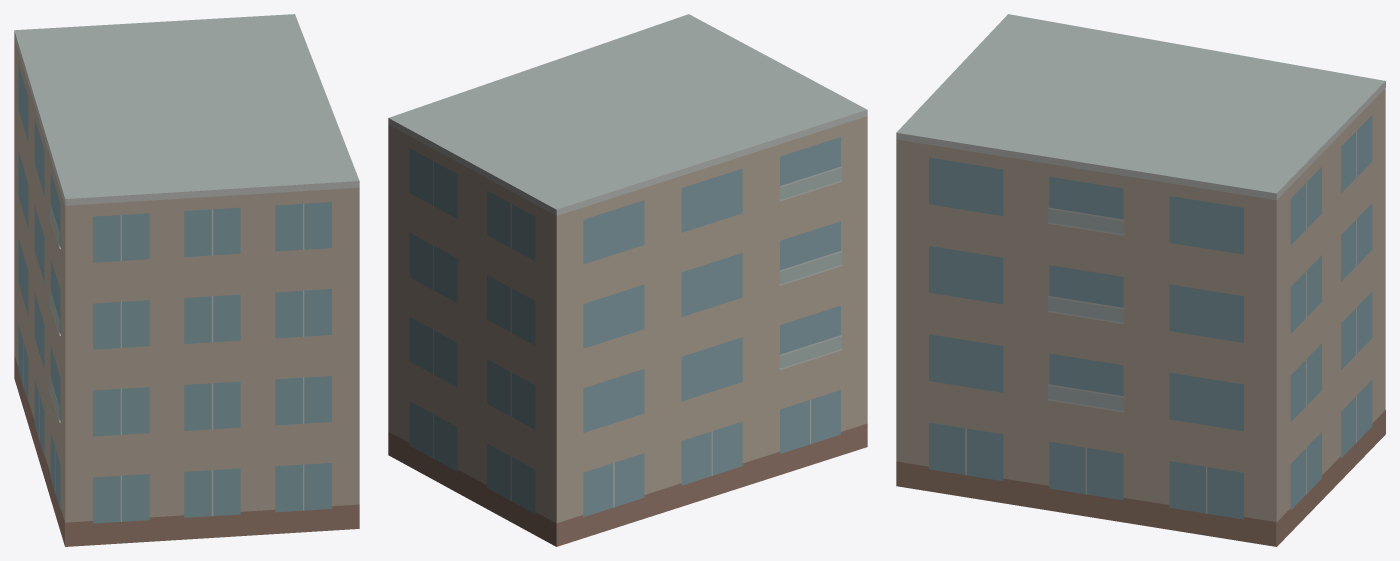
The model's file is survey-upis-32745872.glb.
3 renders of one model, left to right at view 1: azimuth 30°, elevation 25°; view 2: azimuth 150°, elevation 25°; view 3: azimuth 270°, elevation 25°, orthographic. The views are drawn at different scales.
Visible parts, largest first — view 1: survey-upis-32745872.tmp; view 2: survey-upis-32745872.tmp; view 3: survey-upis-32745872.tmp.
Boxes of the visible parts, <box> form: survey-upis-32745872.tmp: <box>14,14,359,546</box>; survey-upis-32745872.tmp: <box>388,14,867,546</box>; survey-upis-32745872.tmp: <box>896,14,1385,546</box>.
Size of the model in its own units: 13.95 by 12.8 by 16.08.
